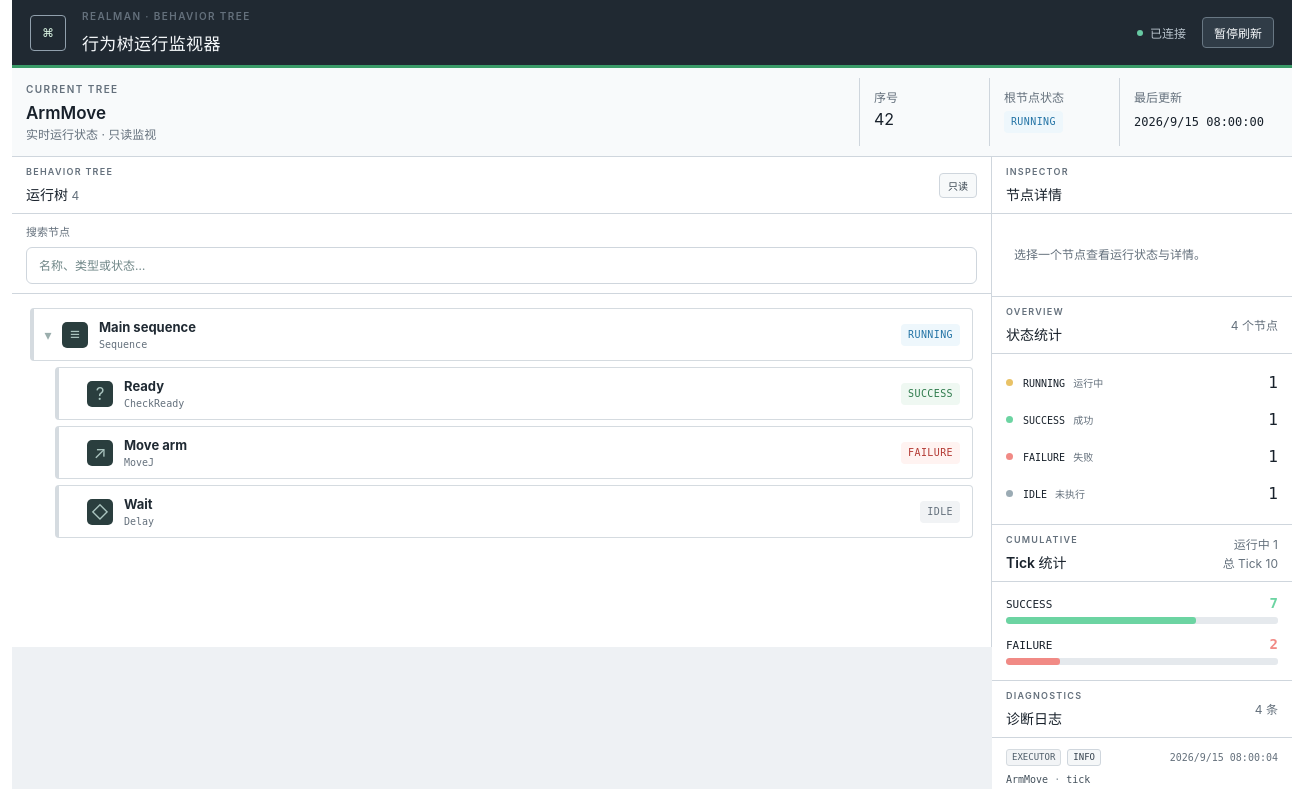
Test: read-only runtime monitor › pauses browser polling and resumes immediately without changing the executor
Click the button "暂停刷新" at (1238, 32), box top-left (1202, 17), bottom-right (1274, 48)
Wait 2000 ms
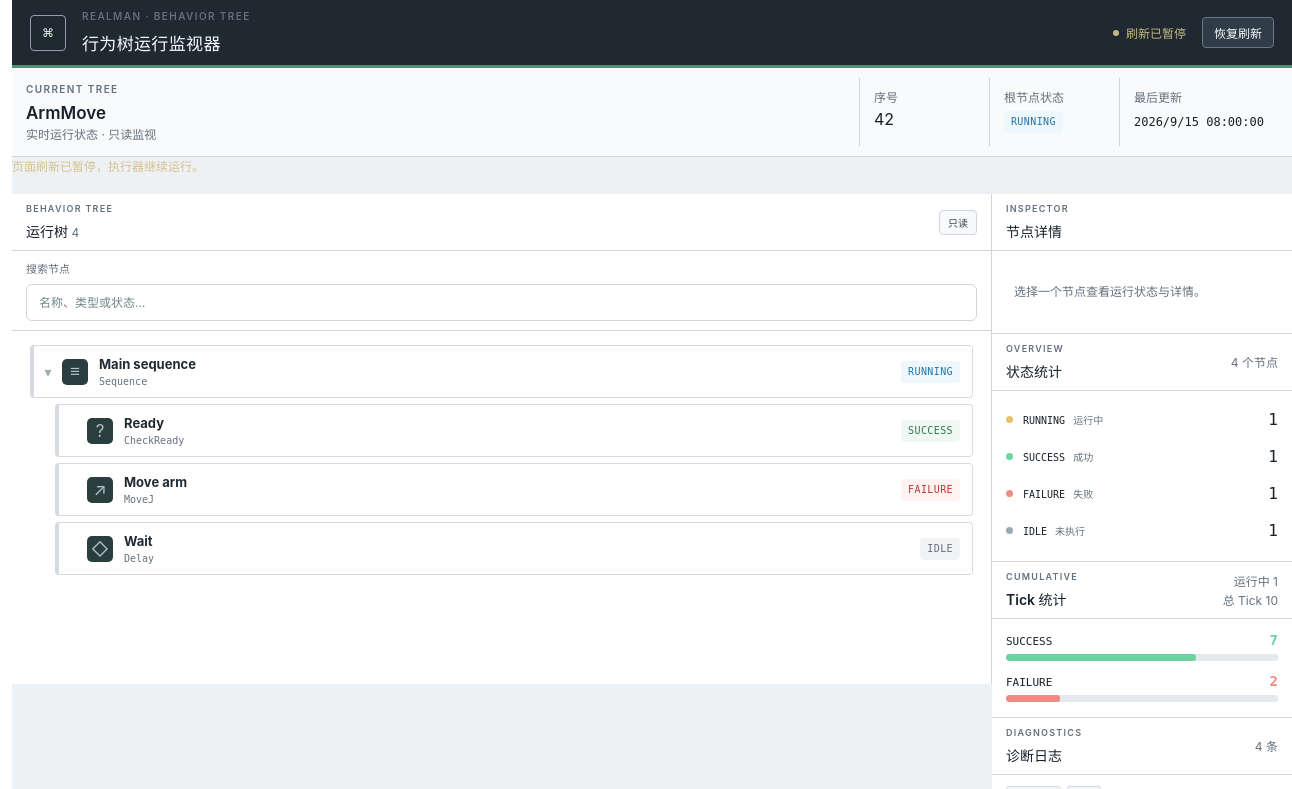
Expected: the text "99" is not shown
Now the text "执行器继续运行" is shown, box top-left (12, 159), bottom-right (204, 174)
Click the button "恢复刷新" at (1238, 32), box top-left (1202, 17), bottom-right (1274, 48)
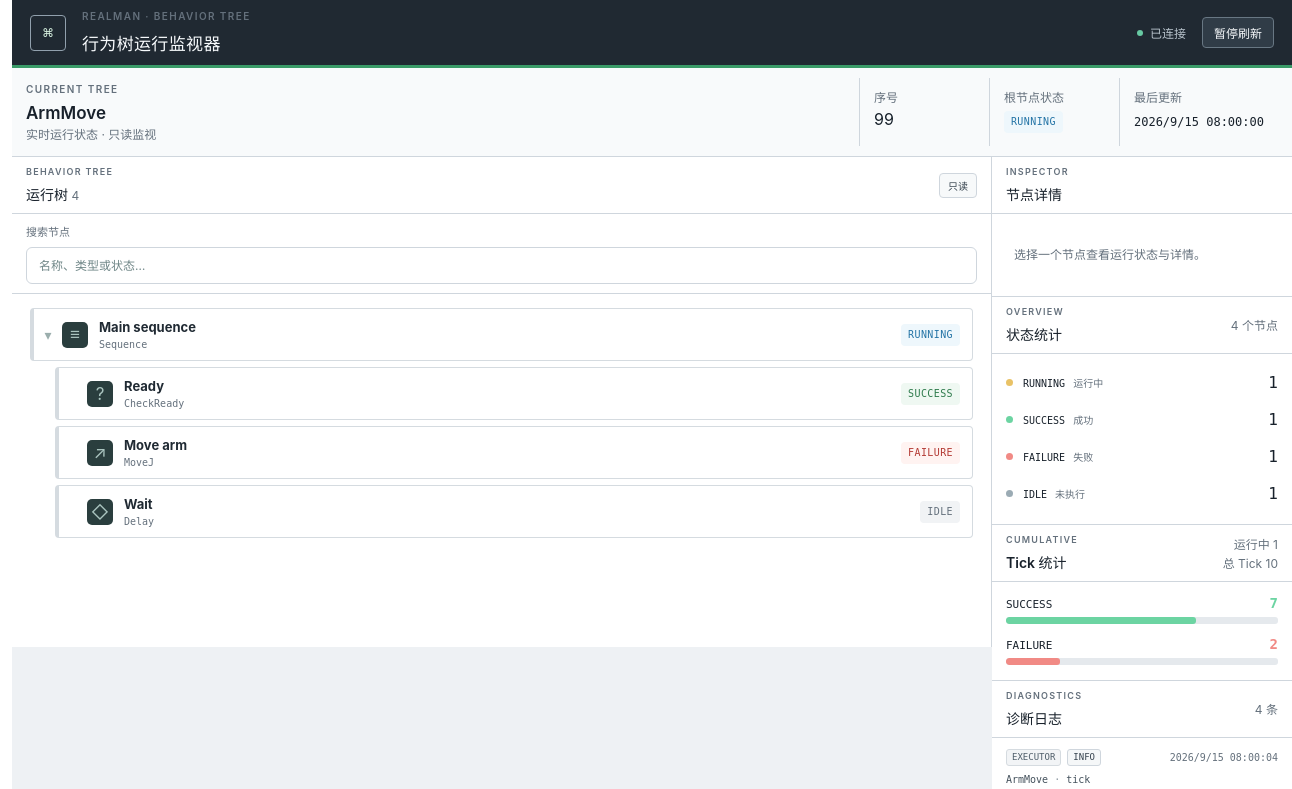
Now the text "99" is shown, box top-left (874, 109), bottom-right (894, 129)
